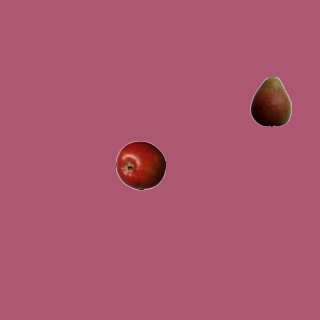Apple Braeburn: (115, 140, 165, 190)
Pear Forelle: (245, 76, 295, 126)
